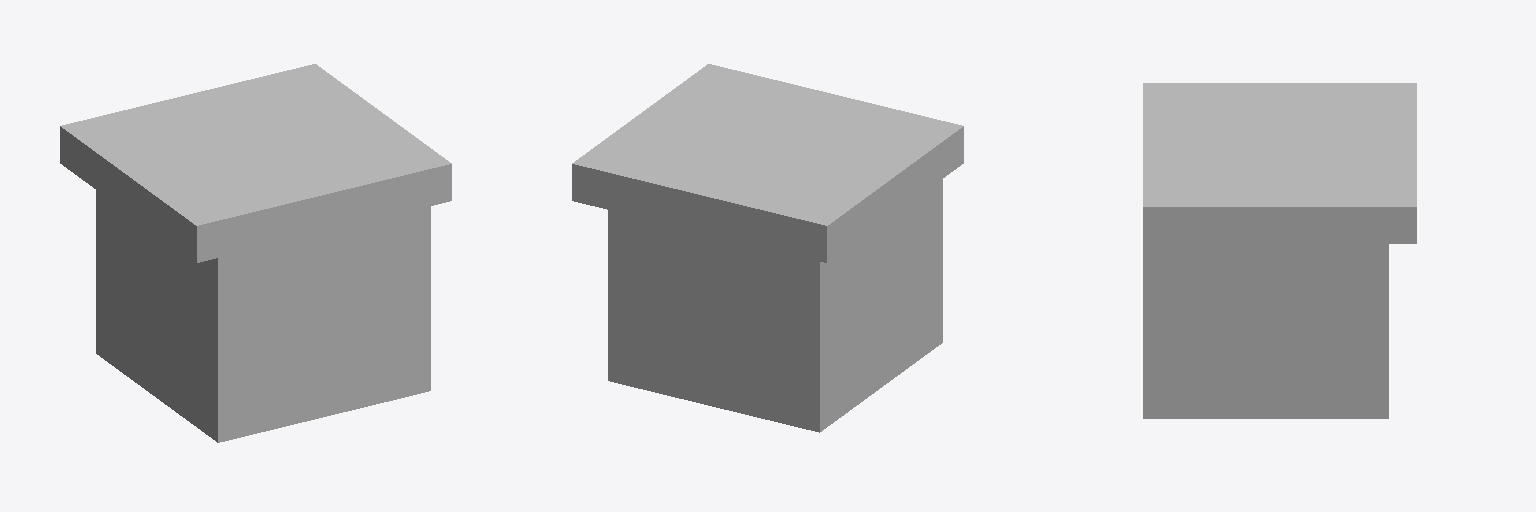
The model's file is Bench End 1.obj.
3 views of the same model, side by side, from view 1: azimuth 30°, elevation 25°; view 2: azimuth 150°, elevation 25°; view 3: azimuth 270°, elevation 25° (orthographic).
Visible parts, largest first — view 1: Bench_End; view 2: Bench_End; view 3: Bench_End.
Boxes of the visible parts, x1,y1,x2,y2 form: Bench_End: [60, 64, 451, 442]; Bench_End: [572, 64, 963, 432]; Bench_End: [1143, 83, 1416, 418].
Bounding box in the file's own units: 8.84 × 7.35 × 8.19.